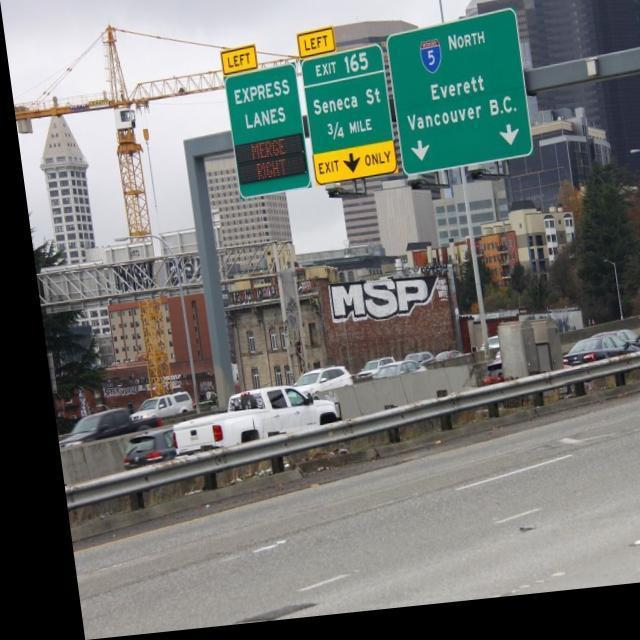-: (316, 280, 434, 332)
